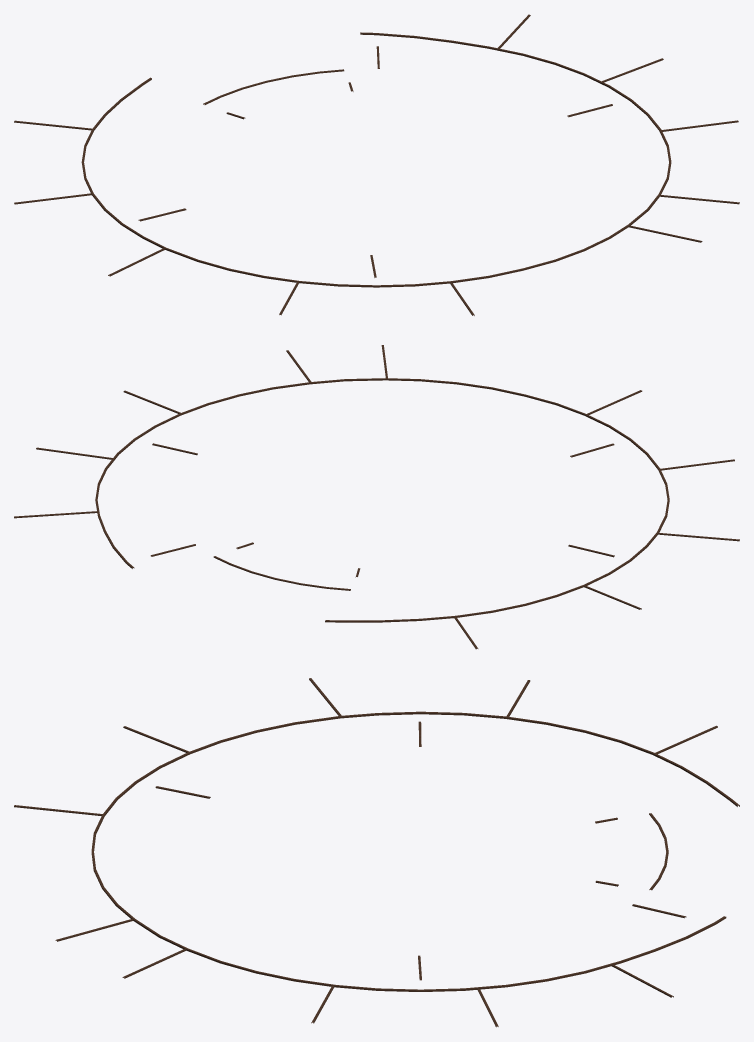
The model's file is fb_jz_dimianfenqu_01.FBX.
The picture shows the model from 3 angles, top to bottom: view 1: azimuth 30°, elevation 25°; view 2: azimuth 150°, elevation 25°; view 3: azimuth 270°, elevation 25°; orthographic projection. The views are drawn at different scales.
Visible parts, largest first — view 1: fb_jz_dimianfenqu_01; view 2: fb_jz_dimianfenqu_01; view 3: fb_jz_dimianfenqu_01.
Boxes of the visible parts, box(x1,y1,x2,y2) form: fb_jz_dimianfenqu_01: box(14, 14, 739, 315); fb_jz_dimianfenqu_01: box(14, 345, 739, 649); fb_jz_dimianfenqu_01: box(14, 678, 739, 1027).
Bounding box in the file's own units: 5766 × 12.15 × 5072.
